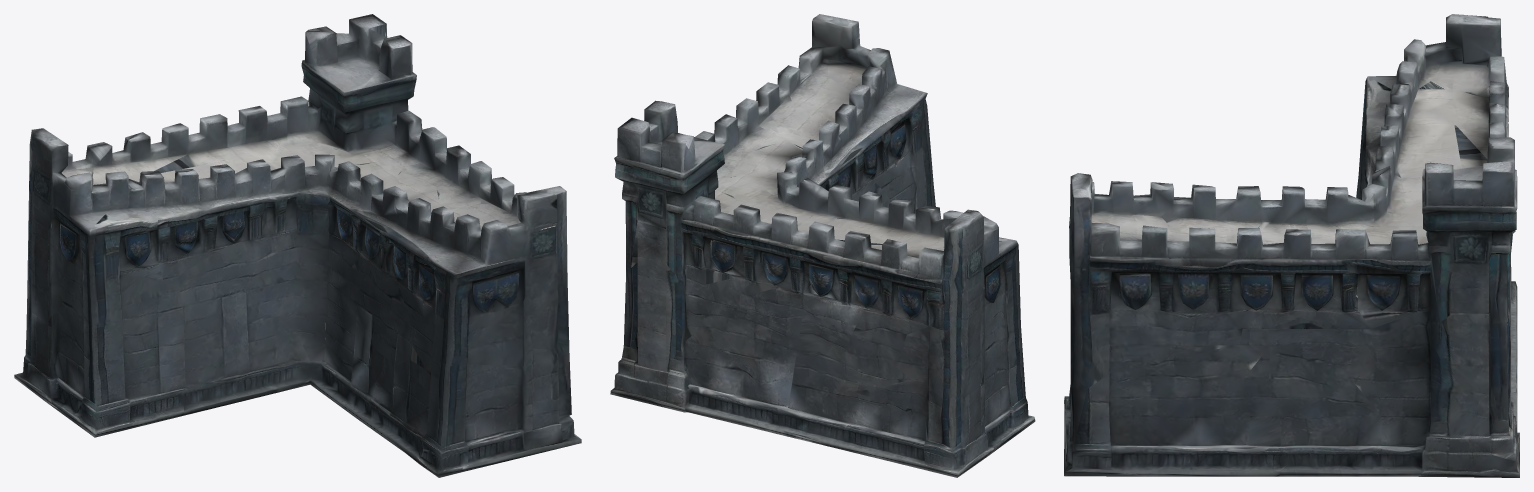
Rendered from castle_wall_corner_stone.glb.
3 renders of one model, left to right at view 1: azimuth 30°, elevation 25°; view 2: azimuth 150°, elevation 25°; view 3: azimuth 270°, elevation 25°, orthographic. The views are drawn at different scales.
Parts seen in each view (by area): view 1: tripo_node_267afd04-5a6e-4a79-984a-4d487e966615; view 2: tripo_node_267afd04-5a6e-4a79-984a-4d487e966615; view 3: tripo_node_267afd04-5a6e-4a79-984a-4d487e966615.
Boxes of the visible parts, box(x1,y1,x2,y2) form: tripo_node_267afd04-5a6e-4a79-984a-4d487e966615: box(14, 14, 581, 477); tripo_node_267afd04-5a6e-4a79-984a-4d487e966615: box(610, 14, 1035, 477); tripo_node_267afd04-5a6e-4a79-984a-4d487e966615: box(1064, 14, 1519, 477).
Bounding box in the file's own units: 0.9656 × 0.7089 × 0.9675.
Materials: 1 (1 with a texture image).
